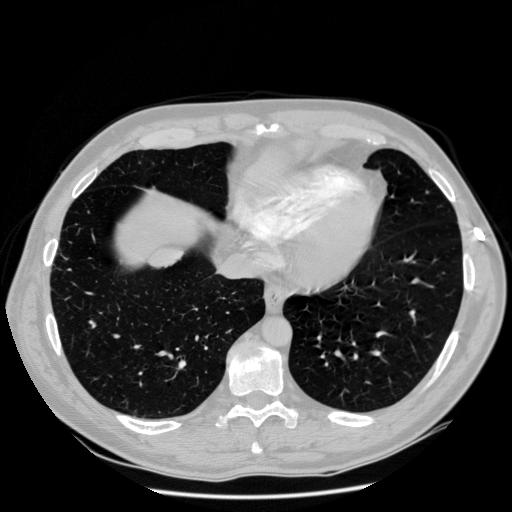nodule: (153, 245, 177, 269)
